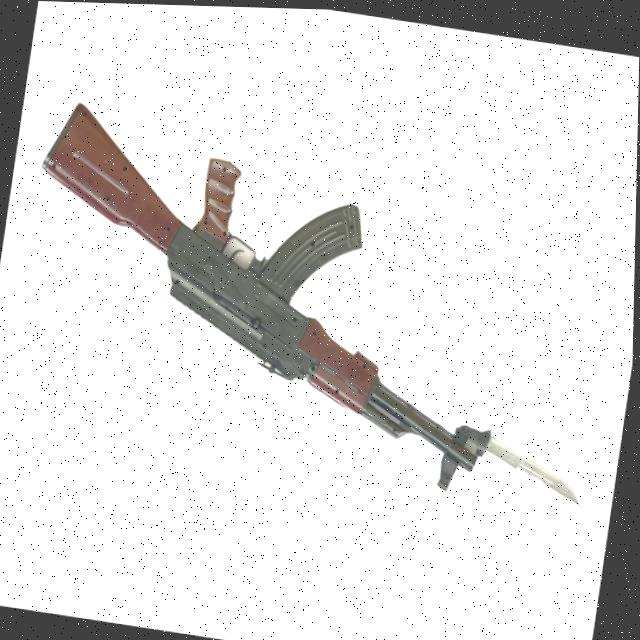firearm: (3, 93, 531, 495)
knife: (457, 419, 600, 506)
